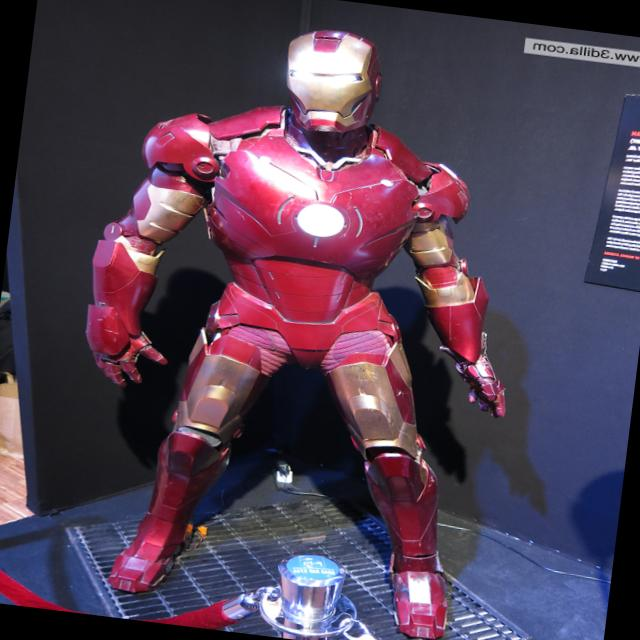Toy: (50, 3, 551, 640)
